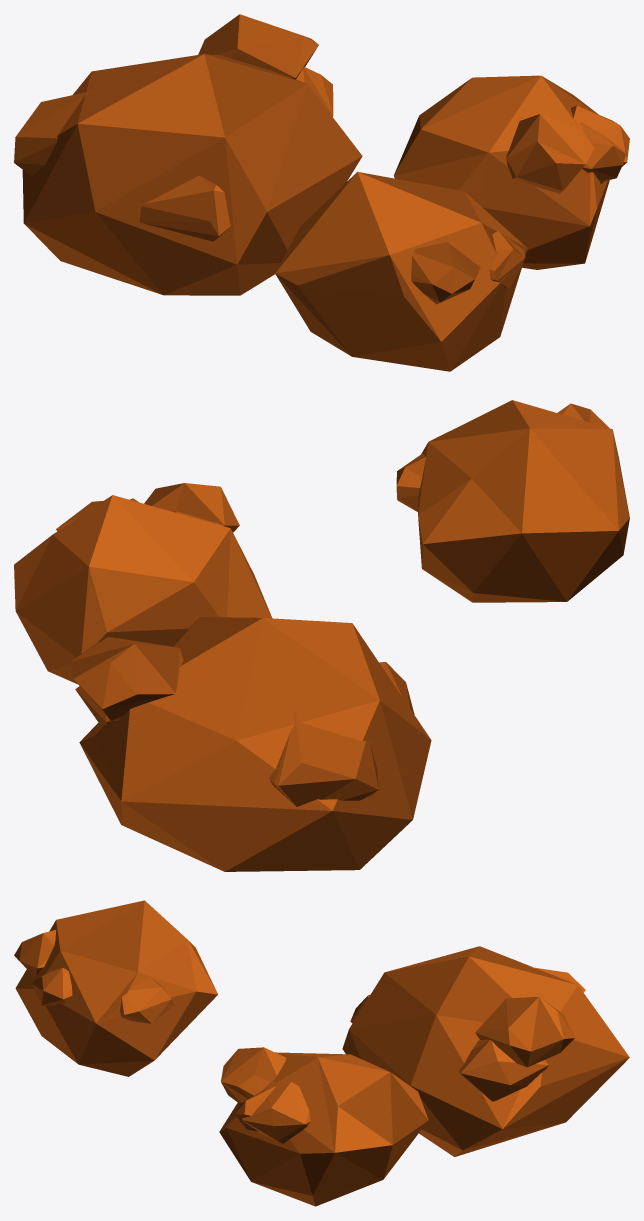
Rendered from Leaves_B.glb.
The picture shows the model from 3 angles, top to bottom: view 1: azimuth 30°, elevation 25°; view 2: azimuth 150°, elevation 25°; view 3: azimuth 270°, elevation 25°; orthographic projection. The views are drawn at different scales.
Parts seen in each view (by area): view 1: Leaves; view 2: Leaves; view 3: Leaves.
Boxes of the visible parts, x1,y1,x2,y2 form: Leaves: (14,14,629,371); Leaves: (14,400,629,871); Leaves: (14,900,629,1206).
Bounding box in the file's own units: 15.91 × 8.94 × 22.05.
